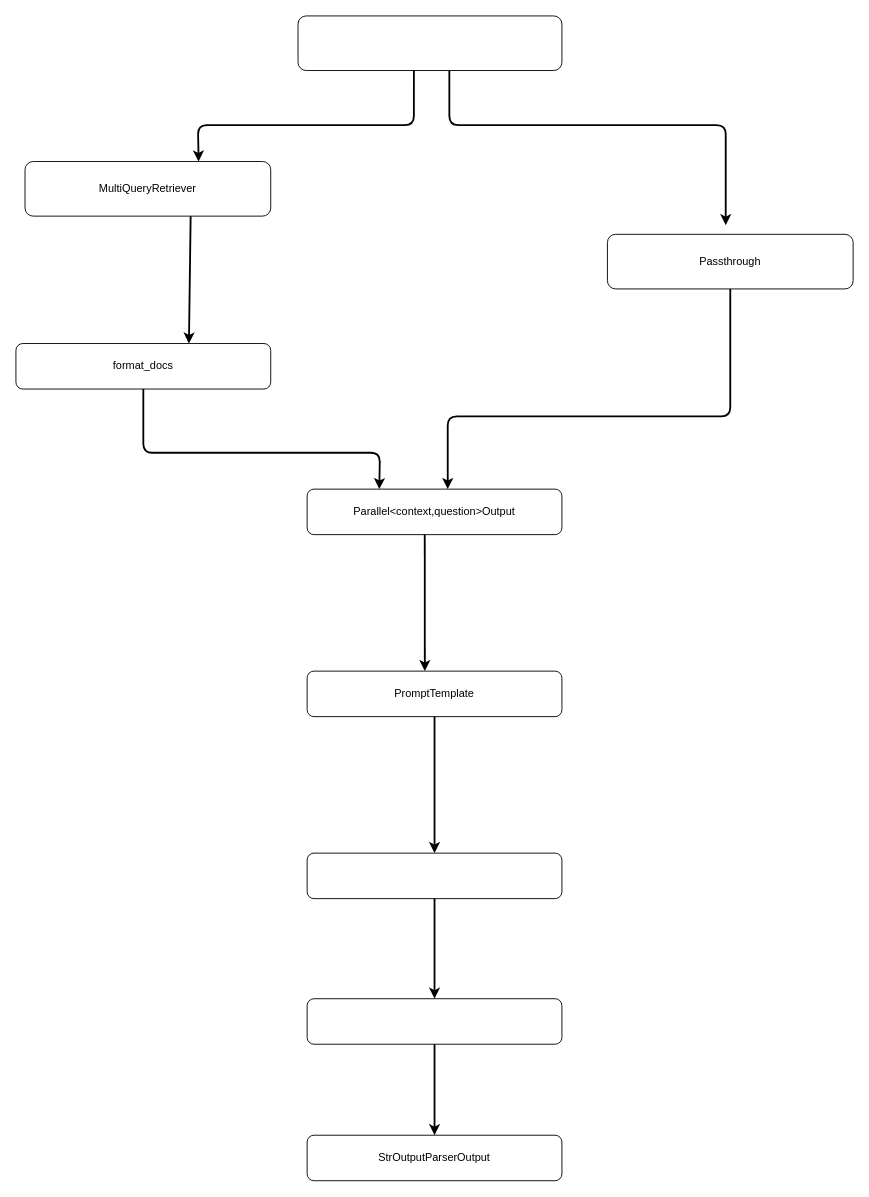
The diagram is 869 pixels wide and 1197 high, and some of its shapes have lost their labels. The shapes that lost their labels are listed below. From the top down, each one's centre as x and y in pixels, then its label:
At point 429,43: "Parallel<context,question>Input".
At point 434,875: "ChatGroq".
At point 434,1021: "StrOutputParser".
